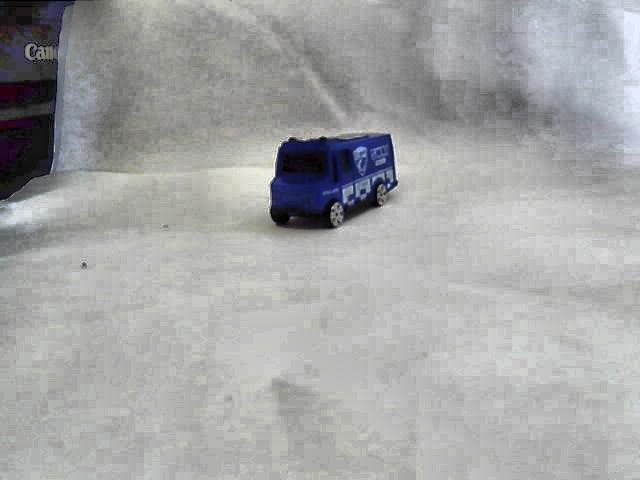police car: (267, 129, 396, 228)
